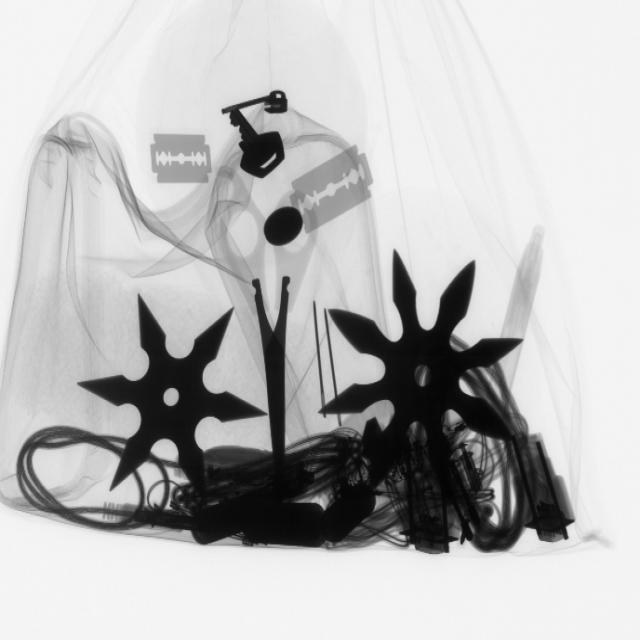BLADE: (286, 139, 379, 236), (144, 124, 220, 194)
SHURIKEN: (328, 247, 525, 498), (85, 291, 262, 501)
